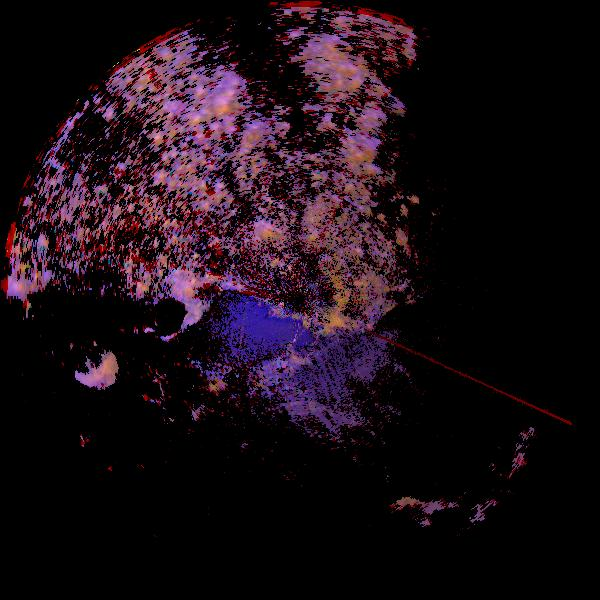roost: (52, 322, 136, 406)
